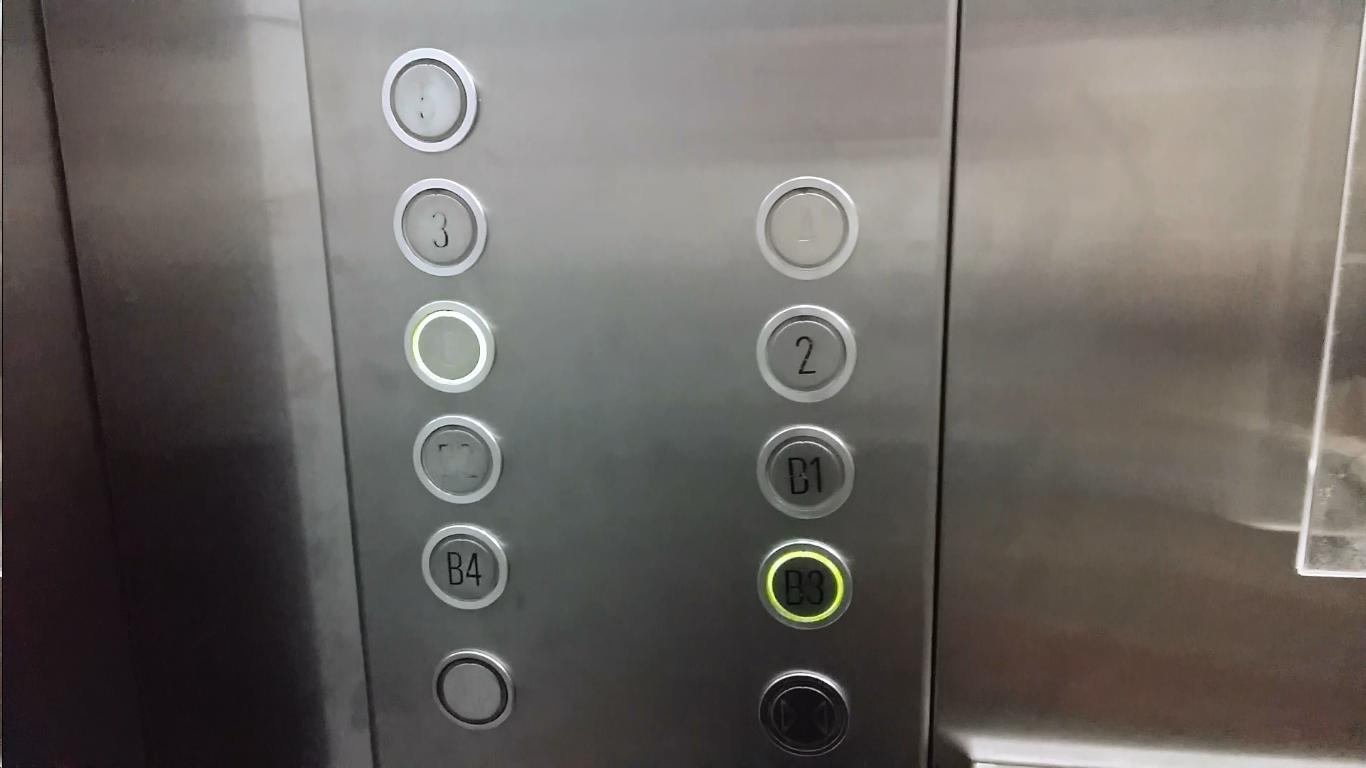2: (756, 305, 856, 402)
3: (393, 177, 488, 275)
4: (755, 176, 858, 280)
B1: (756, 426, 855, 519)
B3: (756, 540, 852, 630)
B4: (420, 525, 508, 609)
blur: (382, 48, 478, 152), (413, 415, 501, 503)
close: (758, 672, 848, 756)
empty: (404, 300, 496, 392), (430, 650, 515, 730)
